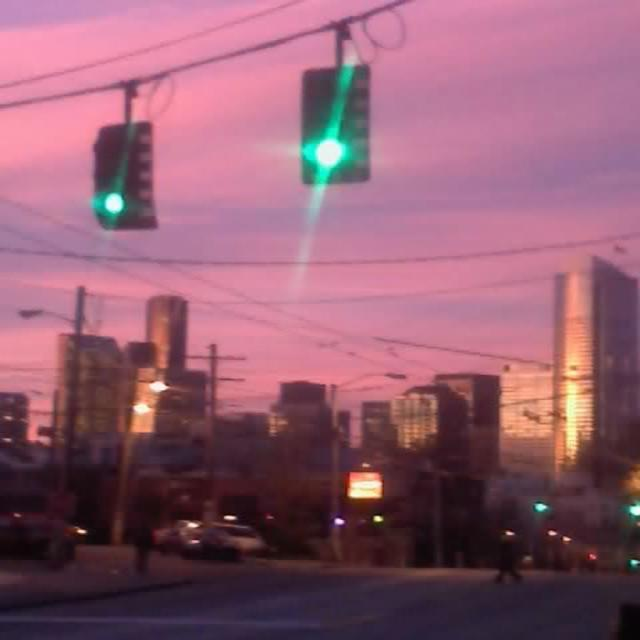traffic light: (301, 67, 371, 184), (92, 128, 142, 227)
